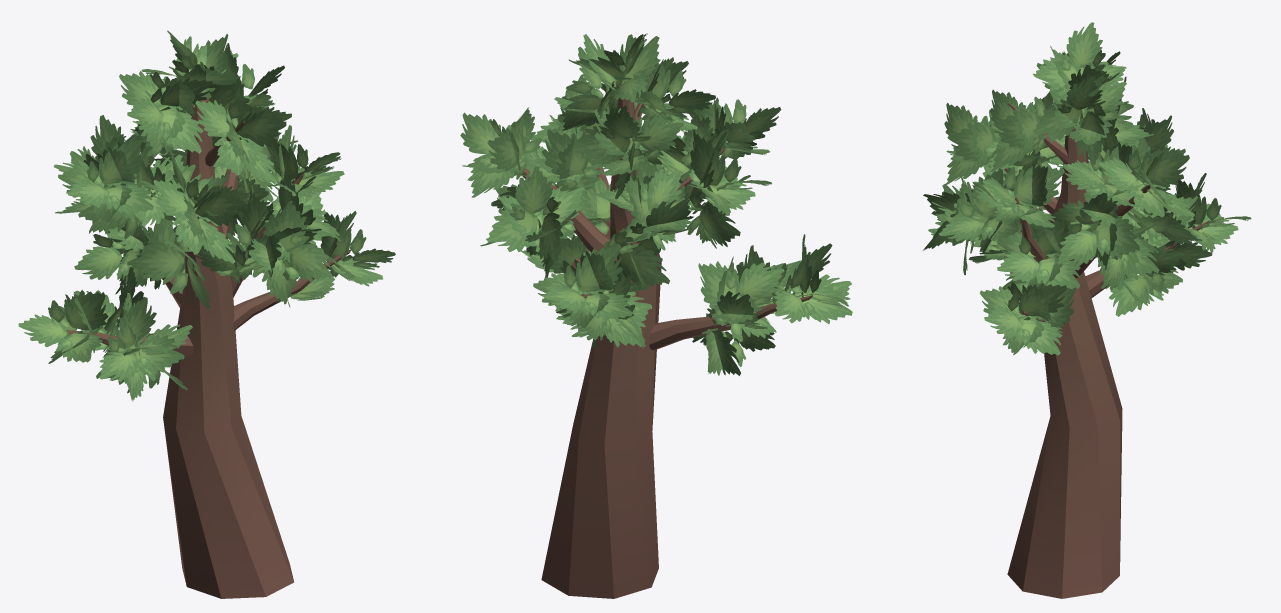
The model's file is tree.fbx.
The picture shows the model from 3 angles, left to right: view 1: azimuth 30°, elevation 25°; view 2: azimuth 150°, elevation 25°; view 3: azimuth 270°, elevation 25°; orthographic projection. The views are drawn at different scales.
Visible parts, largest first — view 1: tree; view 2: tree; view 3: tree.
Part boxes in pixels (x1=…): tree: x1=18, y1=30, x2=395, y2=598; tree: x1=460, y1=33, x2=852, y2=598; tree: x1=923, y1=22, x2=1251, y2=598.
Size of the model in its own units: 4.29 by 5.95 by 3.66.
Materials: 1 (1 with a texture image).
